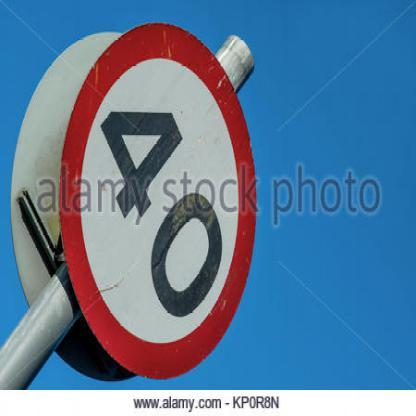Speed Limit 40: (70, 21, 252, 370)
